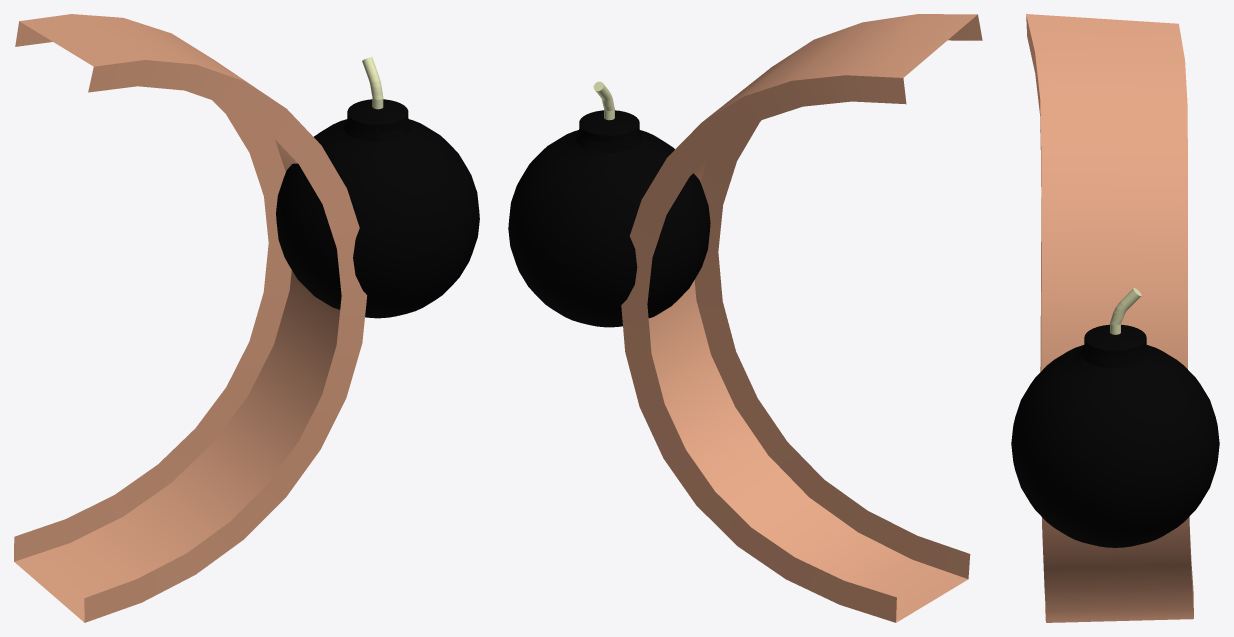
Rendered from BombLeft.fbx.
3 views of the same model, side by side, from view 1: azimuth 30°, elevation 25°; view 2: azimuth 150°, elevation 25°; view 3: azimuth 270°, elevation 25° (orthographic). The views are drawn at different scales.
Parts seen in each view (by area): view 1: Cylinder; view 2: Cylinder; view 3: Cylinder.
Part boxes in pixels (x1,y1,x2,y2): Cylinder: (14, 14, 479, 622); Cylinder: (508, 14, 982, 622); Cylinder: (1011, 14, 1219, 622).
Size of the model in its own units: 328 by 419 by 138.
